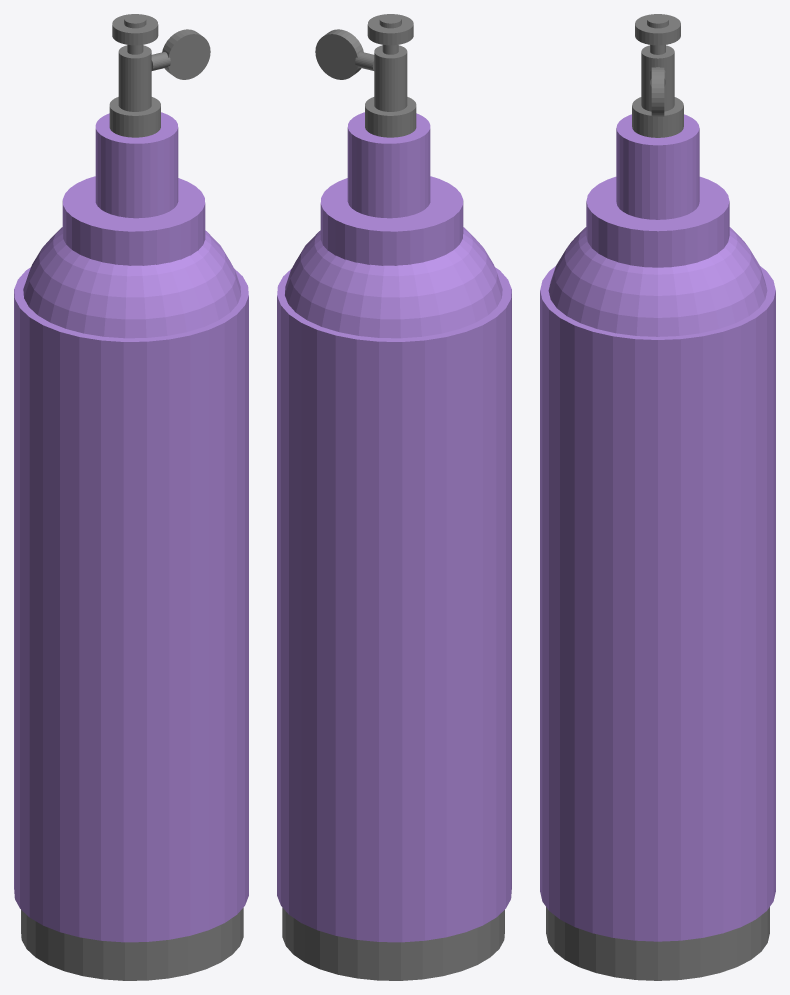
Rendered from oxygen_tank.obj.
The picture shows the model from 3 angles, left to right: view 1: azimuth 30°, elevation 25°; view 2: azimuth 150°, elevation 25°; view 3: azimuth 270°, elevation 25°; orthographic projection.
Visible parts, largest first — view 1: Cylinder.009; view 2: Cylinder.009; view 3: Cylinder.009.
Boxes of the visible parts, bbox=[...] form: Cylinder.009: bbox=[14, 14, 248, 980]; Cylinder.009: bbox=[277, 14, 511, 980]; Cylinder.009: bbox=[540, 14, 775, 980].
Size of the model in its own units: 0.8319 by 3.57 by 0.8319.
